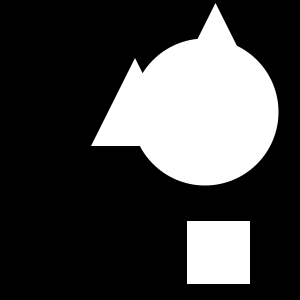circle: (187, 221, 250, 284)
rectangle: (132, 39, 278, 186)
triangle: (91, 58, 179, 146), (175, 3, 256, 84)
